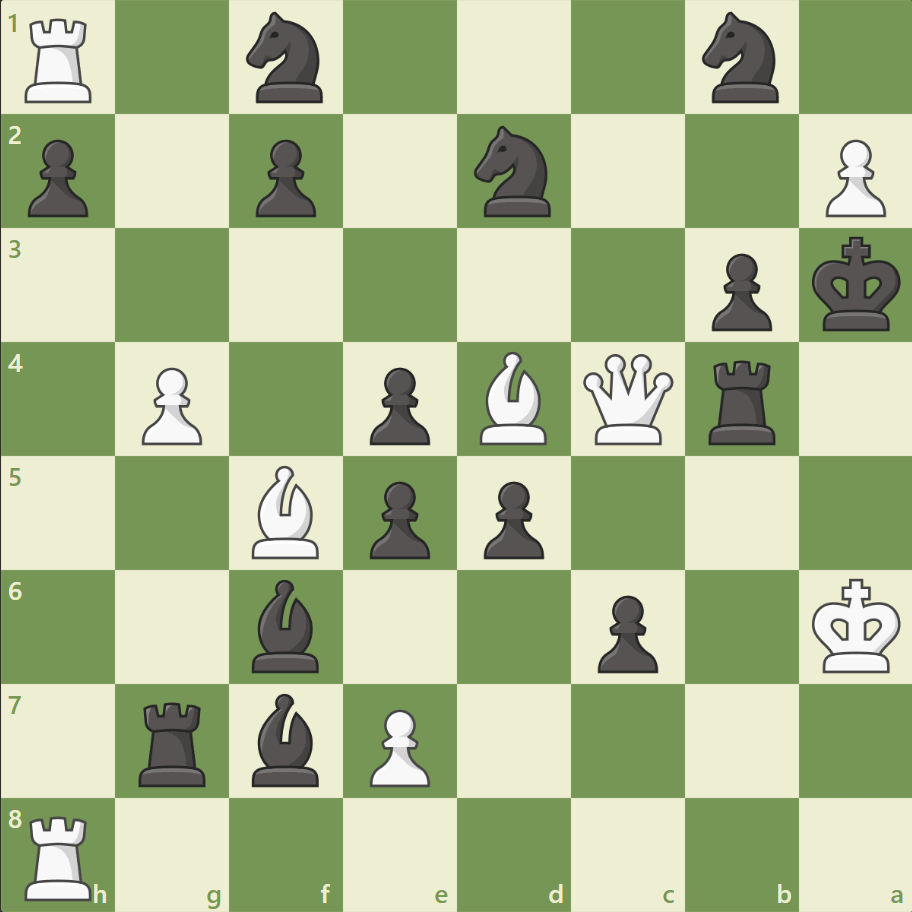B: (244, 460, 328, 563), (471, 347, 555, 449)
K: (806, 571, 906, 679)
P: (133, 359, 208, 450), (361, 700, 435, 791), (815, 132, 889, 223)
Q: (578, 349, 677, 449)
R: (19, 806, 102, 904), (19, 12, 102, 109)
b: (244, 687, 328, 790), (244, 574, 328, 676)
k: (806, 231, 906, 339)
n: (692, 7, 789, 110), (238, 7, 335, 110), (465, 121, 562, 223)
p: (474, 473, 549, 564), (701, 246, 776, 337), (247, 132, 322, 223), (20, 132, 95, 223), (588, 586, 662, 677), (361, 473, 435, 564), (361, 359, 435, 450)
r: (700, 352, 783, 449), (133, 693, 215, 790)
